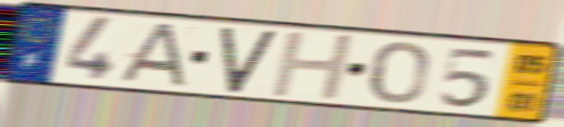4: (62, 12, 119, 86)
5: (437, 45, 500, 109)
A: (112, 21, 190, 90)
H: (267, 30, 358, 101)
O: (368, 39, 432, 106)
V: (217, 26, 280, 95)
